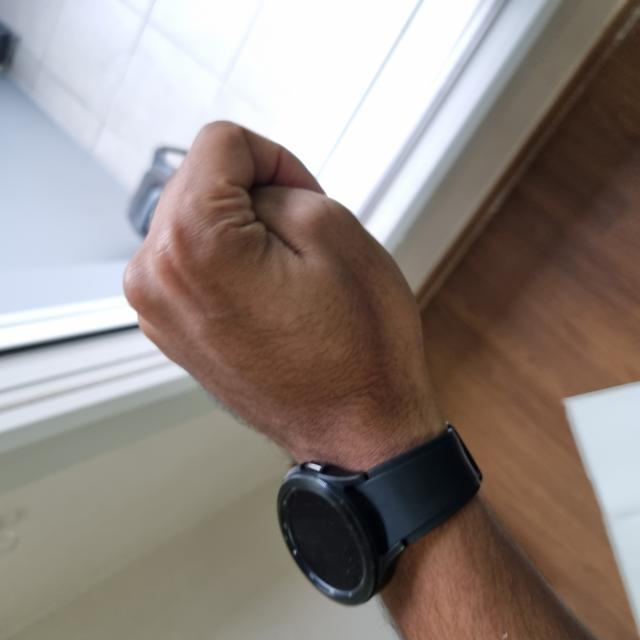Rock: (178, 125, 519, 429)
